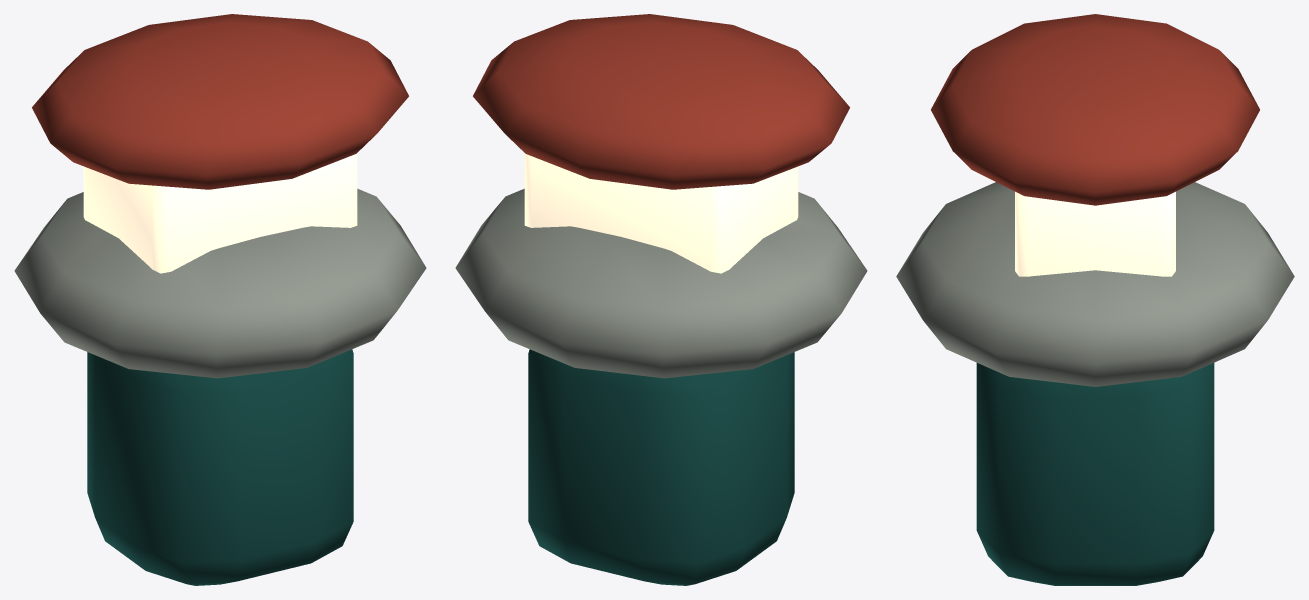
Rendered from upgrade_beacon.glb.
The picture shows the model from 3 angles, left to right: view 1: azimuth 30°, elevation 25°; view 2: azimuth 150°, elevation 25°; view 3: azimuth 270°, elevation 25°; orthographic projection.
Parts seen in each view (by area): view 1: UpgradeBeacon; view 2: UpgradeBeacon; view 3: UpgradeBeacon.
Boxes of the visible parts, <box> form: UpgradeBeacon: <box>14,14,426,585</box>; UpgradeBeacon: <box>455,14,867,585</box>; UpgradeBeacon: <box>896,14,1294,585</box>.
Size of the model in its own units: 1.08 by 1.42 by 1.04.
